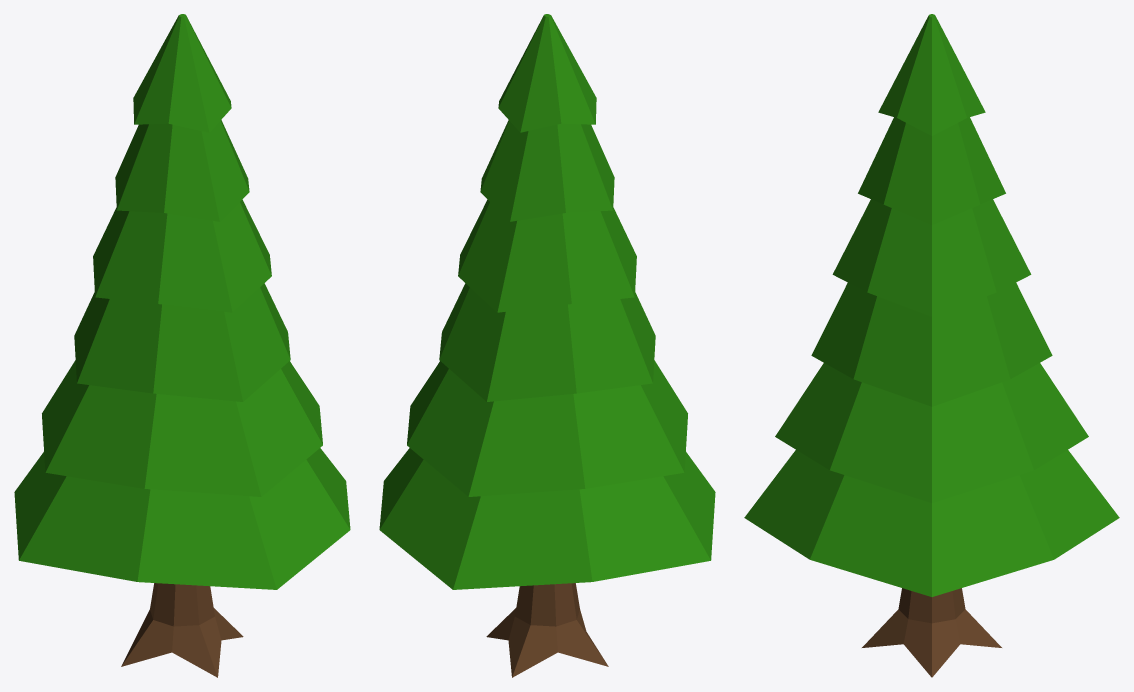
Rendered from Tree.fbx.
3 views of the same model, side by side, from view 1: azimuth 30°, elevation 25°; view 2: azimuth 150°, elevation 25°; view 3: azimuth 270°, elevation 25° (orthographic).
Parts seen in each view (by area): view 1: Tree; view 2: Tree; view 3: Tree.
Part boxes in pixels (box(x1,y1,x2,y2)): Tree: box(14, 14, 350, 677); Tree: box(379, 14, 715, 677); Tree: box(744, 14, 1119, 677).
Bounding box in the file's own units: 4.58 × 8.51 × 4.58.
